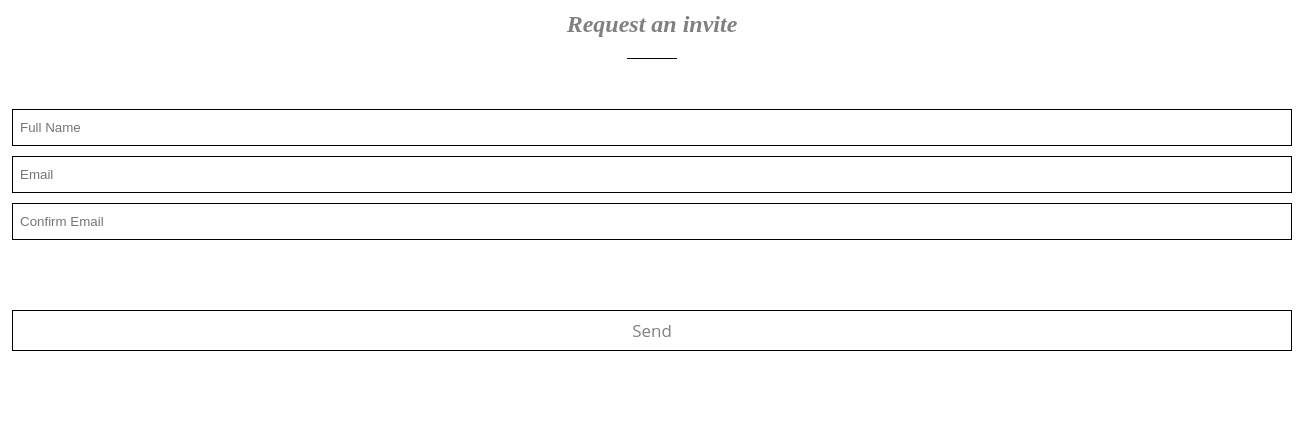
RequestInviteForm › shows error message when confirm email field does not match email field
Type "mock1@airwallex.com" into the field with placeholder "Email" at (652, 174), box x1=12 y1=156 x2=1292 y2=193
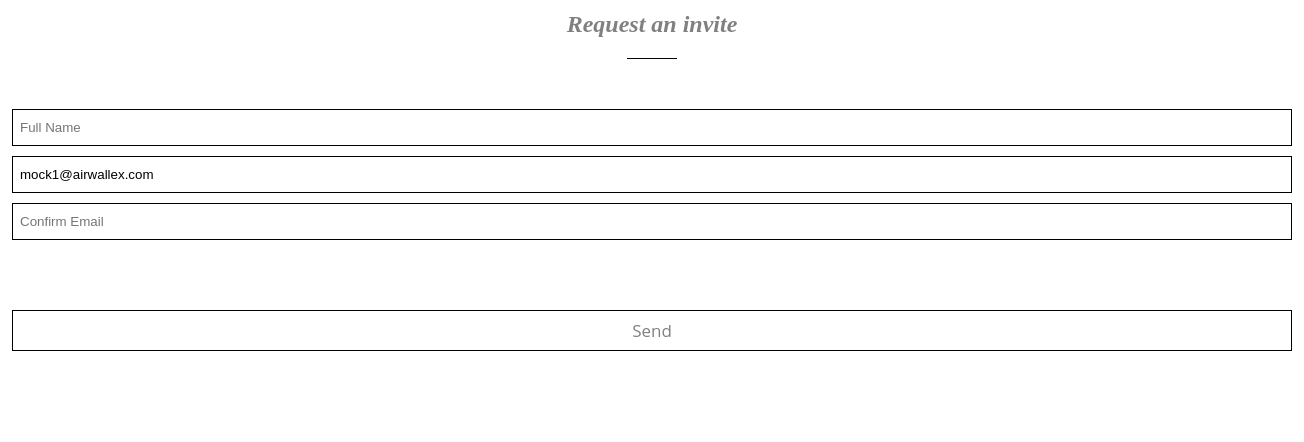
Type "mock2@airwallex.com" into the field with placeholder "Confirm Email" at (652, 221), box x1=12 y1=203 x2=1292 y2=240
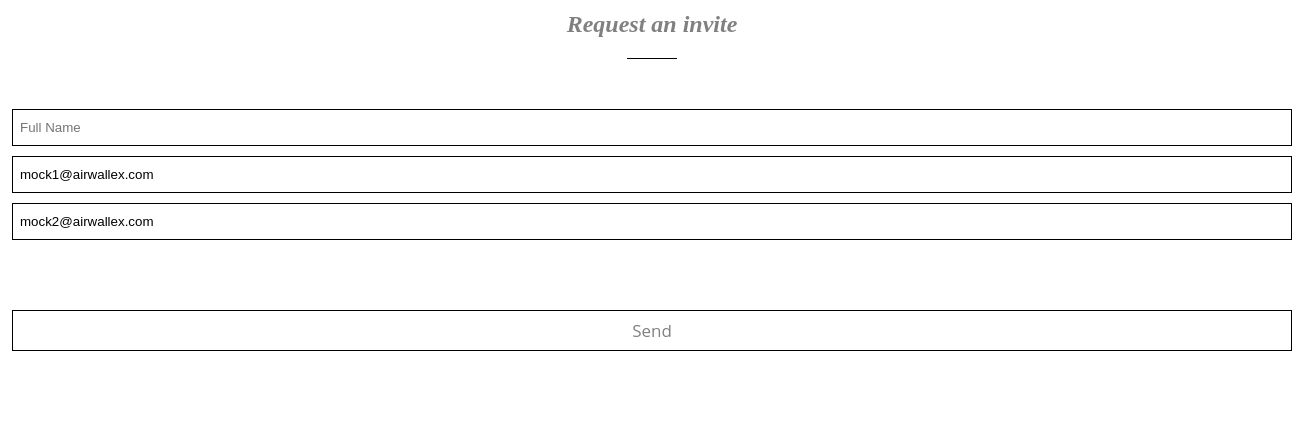
Click the button with test id "submit-button" at (652, 330), box x1=12 y1=310 x2=1292 y2=351
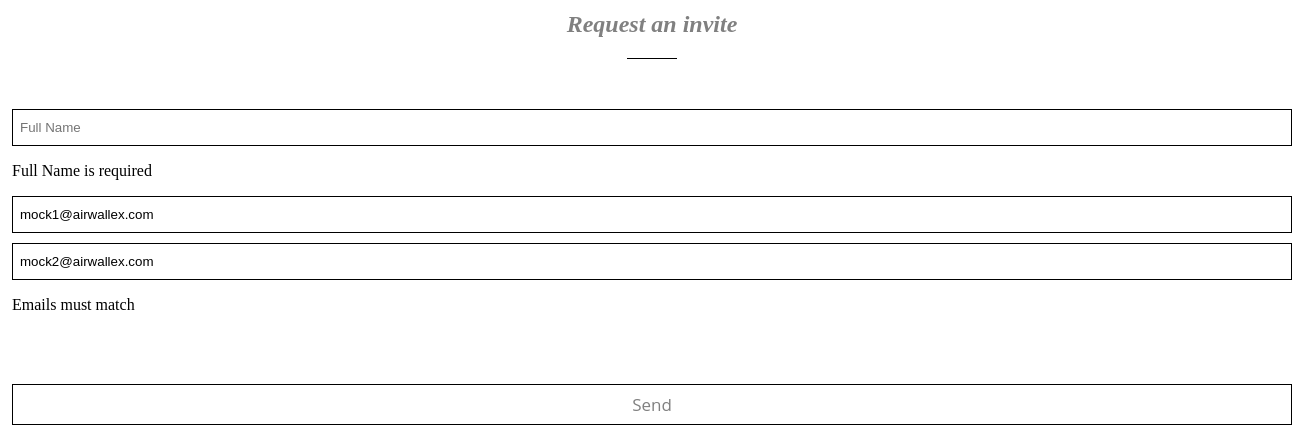
Expected: the text "Emails must match" is shown, x1=12 y1=296 x2=135 y2=313
